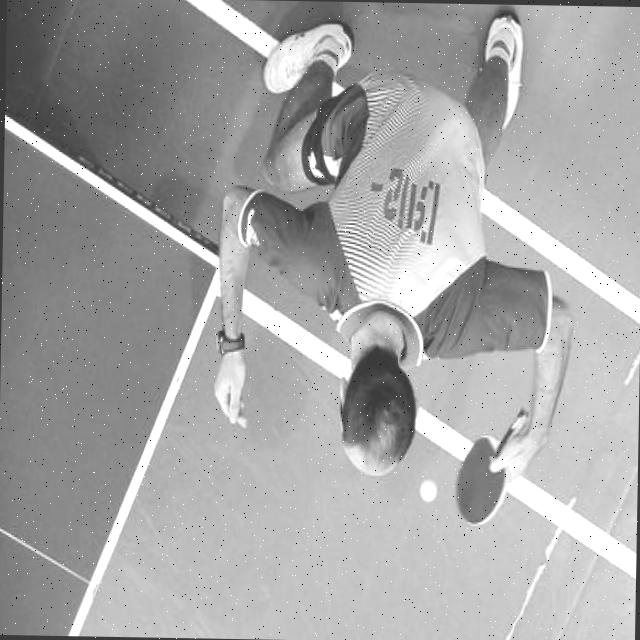ping-pong-ball: (417, 476, 437, 502)
